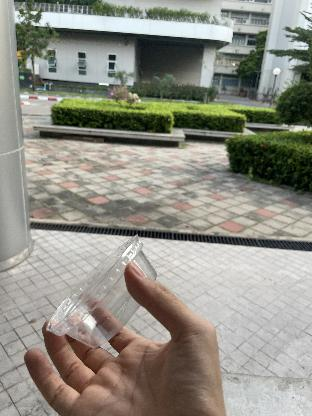Plastic Cup: (47, 233, 165, 355)
